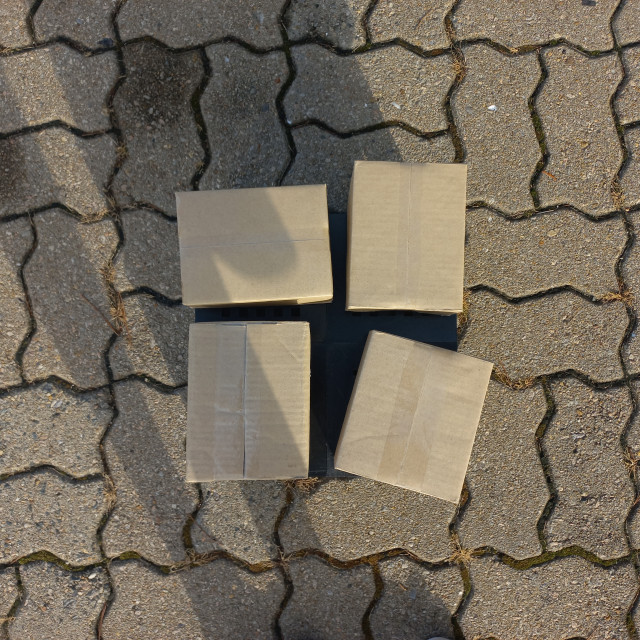box: (333, 325, 495, 506), (180, 315, 317, 486), (170, 177, 336, 312), (339, 153, 466, 318)
